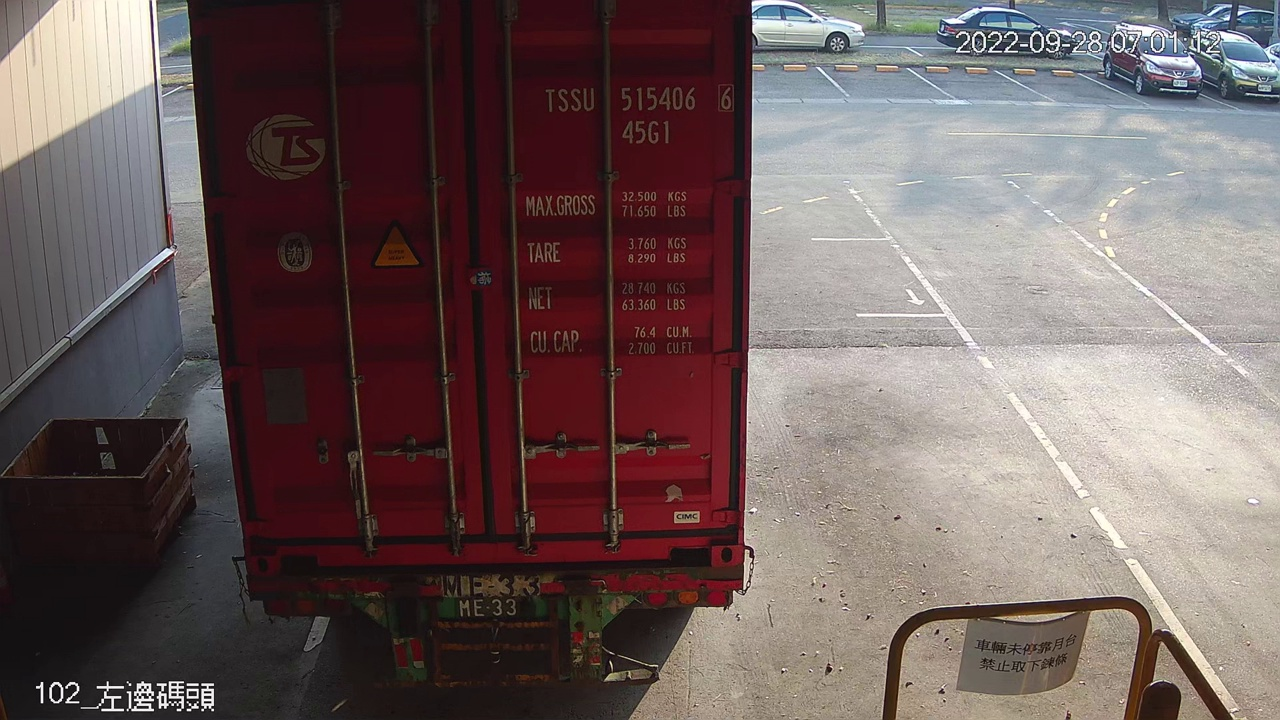container: (535, 78, 739, 152)
